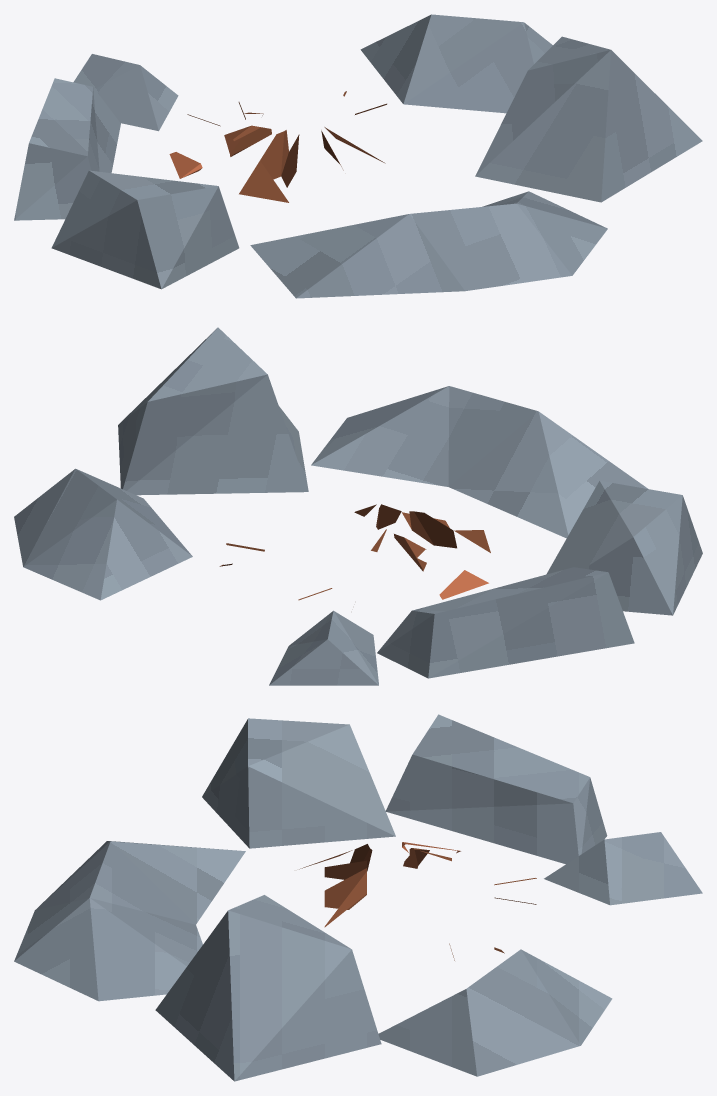
The model's file is campfire.obj.
The picture shows the model from 3 angles, top to bottom: view 1: azimuth 30°, elevation 25°; view 2: azimuth 150°, elevation 25°; view 3: azimuth 270°, elevation 25°; orthographic projection. The views are drawn at different scales.
Parts seen in each view (by area): view 1: Geoset_000_Geoset_000_None_38.png, Geoset_001_Geoset_001_None; view 2: Geoset_000_Geoset_000_None_38.png, Geoset_001_Geoset_001_None; view 3: Geoset_000_Geoset_000_None_38.png, Geoset_001_Geoset_001_None.
Part boxes in pixels (x1=…): Geoset_000_Geoset_000_None_38.png: x1=14, y1=14, x2=702, y2=298; Geoset_001_Geoset_001_None: x1=169, y1=91, x2=386, y2=202; Geoset_000_Geoset_000_None_38.png: x1=14, y1=327, x2=702, y2=685; Geoset_001_Geoset_001_None: x1=219, y1=504, x2=490, y2=600; Geoset_000_Geoset_000_None_38.png: x1=14, y1=714, x2=702, y2=1081; Geoset_001_Geoset_001_None: x1=299, y1=842, x2=536, y2=960.
Bounding box in the file's own units: 2.14 × 0.4055 × 2.03.
